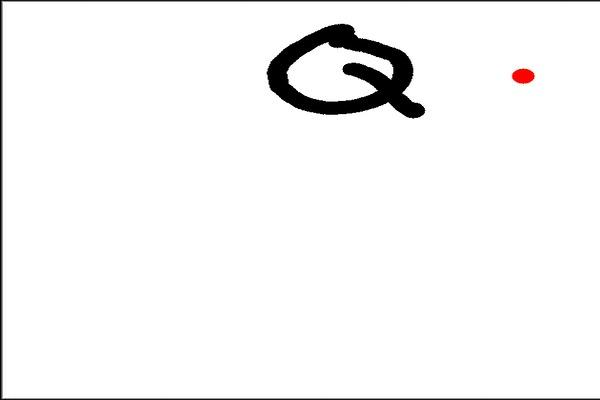Q: (255, 11, 434, 130)
